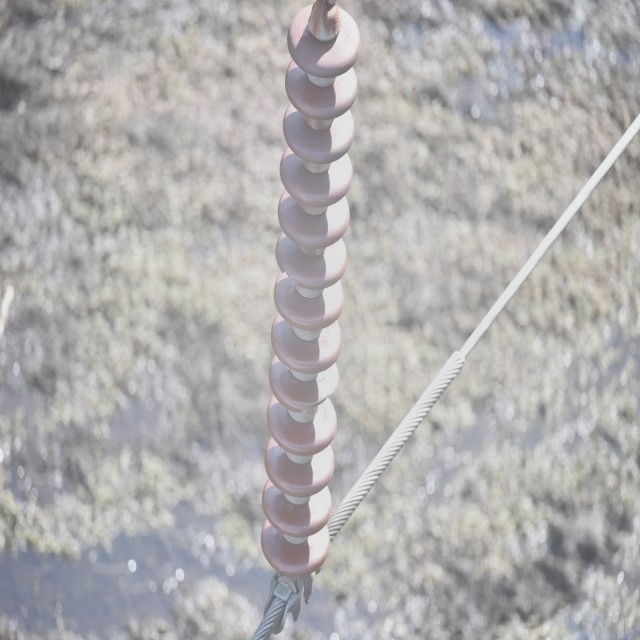broken: (287, 384, 339, 418)
insulator: (261, 7, 360, 575)
